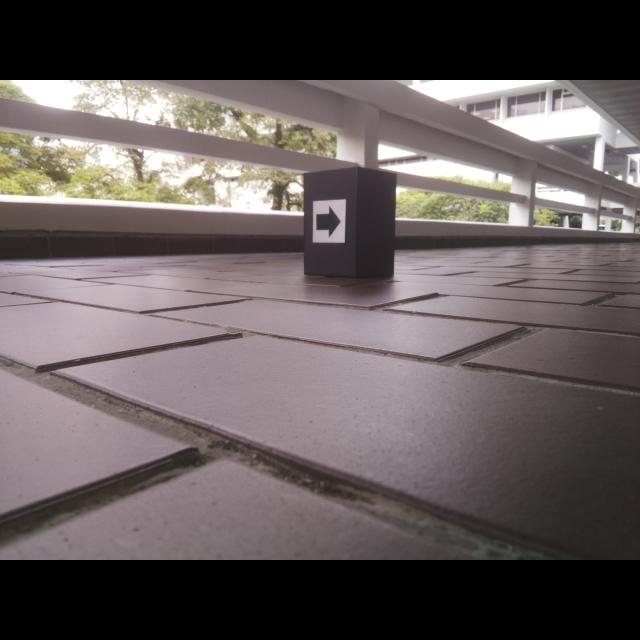RIGHT: (315, 204, 342, 240)
